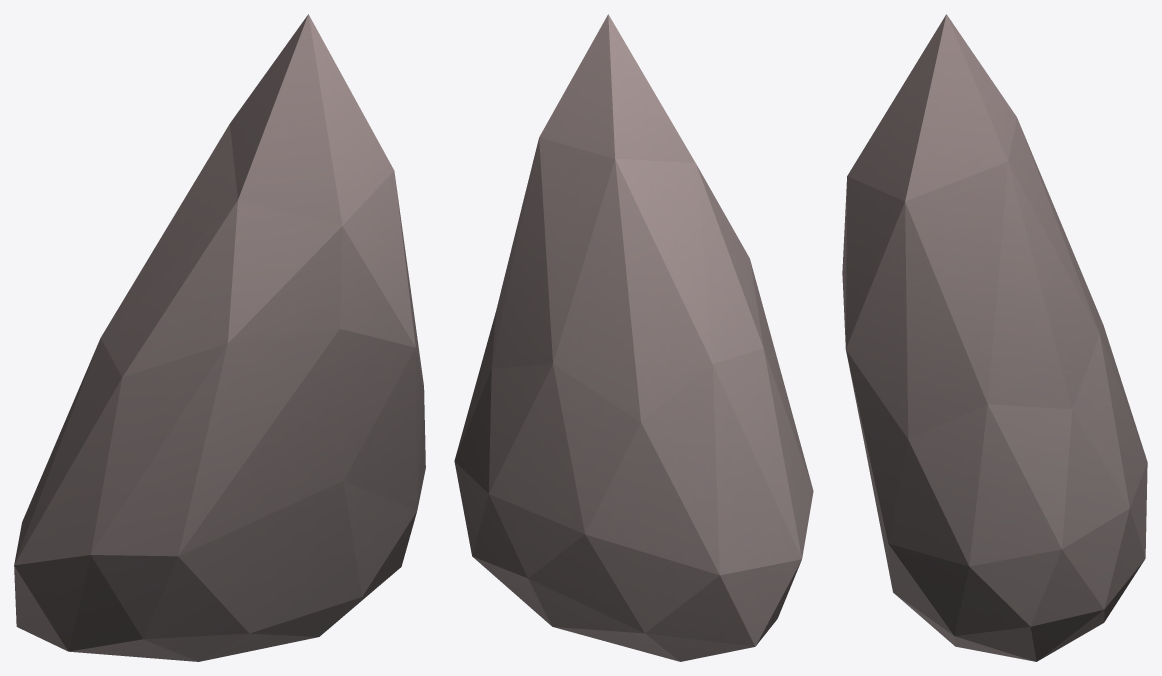
Rendered from SM_Rock04_Var1.fbx.
The picture shows the model from 3 angles, left to right: view 1: azimuth 30°, elevation 25°; view 2: azimuth 150°, elevation 25°; view 3: azimuth 270°, elevation 25°; orthographic projection. The views are drawn at different scales.
Parts seen in each view (by area): view 1: SmallRock02; view 2: SmallRock02; view 3: SmallRock02.
Part boxes in pixels (x1=…): SmallRock02: x1=14, y1=14, x2=425, y2=661; SmallRock02: x1=454, y1=14, x2=813, y2=661; SmallRock02: x1=842, y1=14, x2=1147, y2=661.
Bounding box in the file's own units: 122 × 197 × 84.47.
